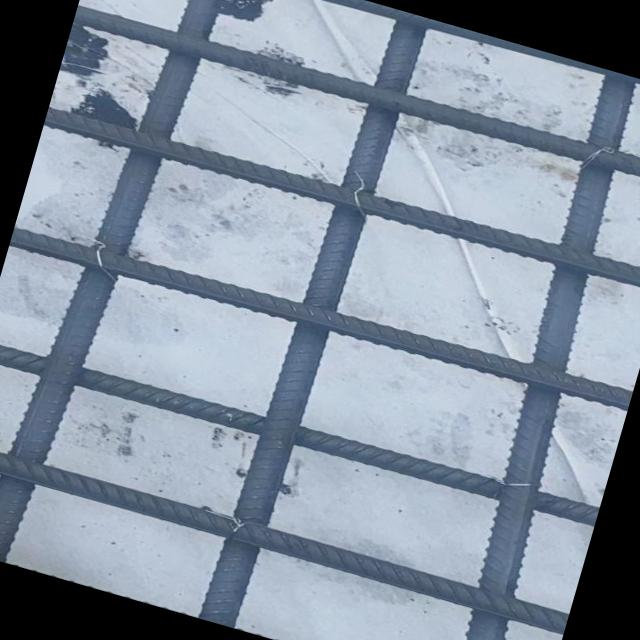ribbed bar: (195, 14, 428, 634), (0, 0, 231, 578), (8, 214, 632, 424), (42, 96, 640, 302), (0, 330, 599, 535), (425, 74, 640, 640), (72, 0, 640, 200), (0, 436, 568, 635), (96, 0, 640, 116)
